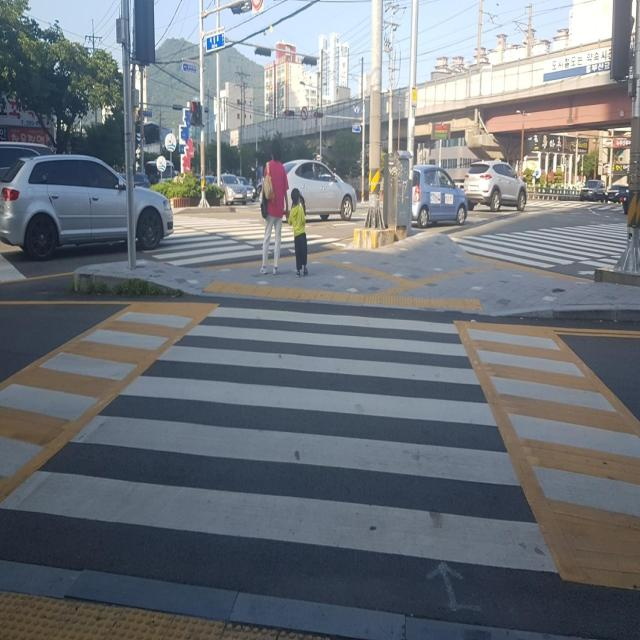횡단보도: (0, 304, 562, 574), (135, 206, 338, 272), (449, 217, 640, 277)
